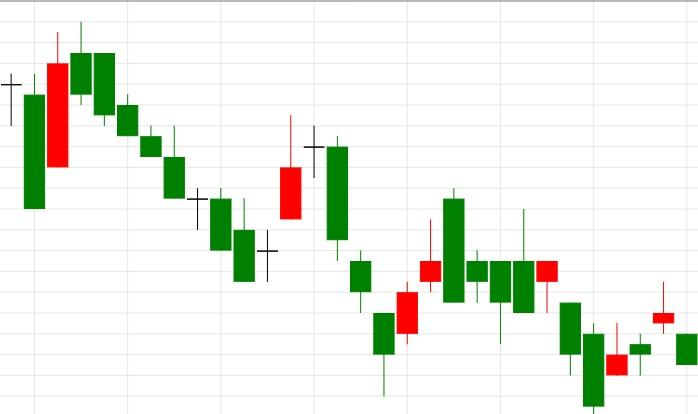bearish_engulfing_fall: (372, 189, 466, 396)
evening_star_fall: (233, 115, 349, 282)
three_black_crows_fall: (233, 114, 396, 396)
